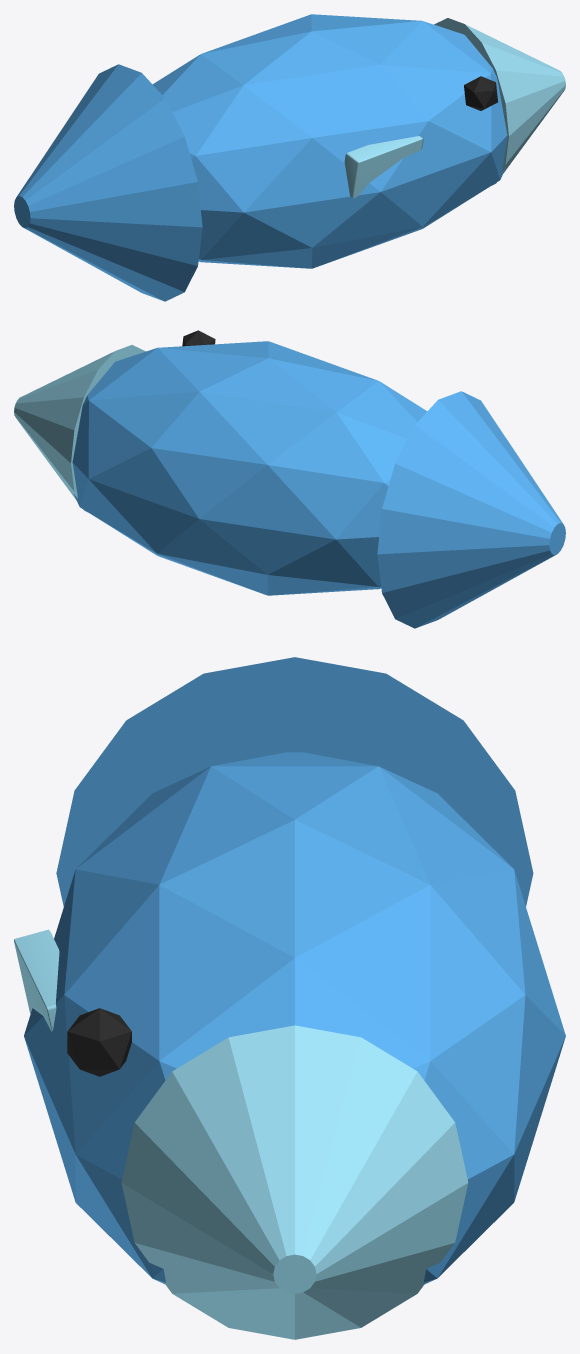
File: fish.glb
3 views of the same model, one above another, from view 1: azimuth 30°, elevation 25°; view 2: azimuth 150°, elevation 25°; view 3: azimuth 270°, elevation 25° (orthographic). The views are drawn at different scales.
Parts seen in each view (by area): view 1: body, tail, nose, fin, eye; view 2: body, tail, nose, eye; view 3: body, nose, tail, eye, fin.
Boxes of the visible parts, x1,y1,x2,y2 form: body: (153, 14, 507, 268); tail: (14, 64, 202, 301); nose: (434, 18, 565, 185); fin: (344, 136, 423, 197); eye: (464, 76, 497, 110); body: (72, 341, 427, 595); tail: (377, 391, 565, 628); nose: (14, 345, 145, 512); eye: (182, 330, 215, 346); body: (24, 752, 565, 1284); nose: (121, 1025, 468, 1339); tail: (56, 657, 533, 906); eye: (67, 1008, 131, 1076); fin: (14, 929, 59, 1031).
Size of the model in its own units: 1.12 by 0.44 by 0.5091.
